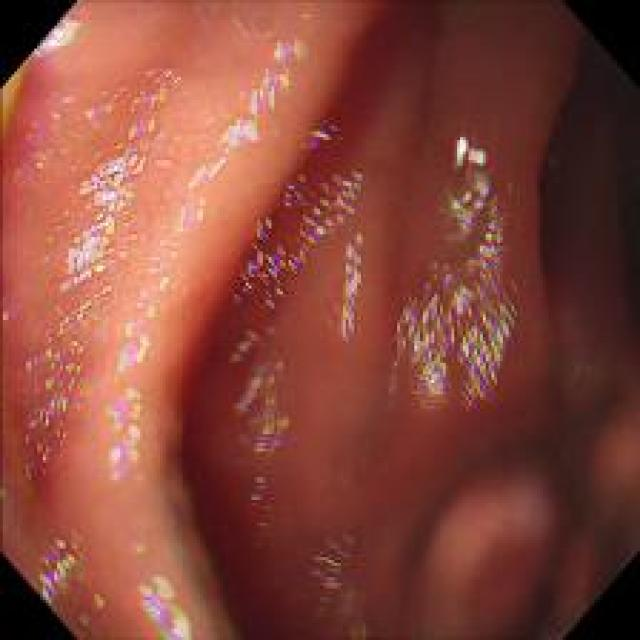blur: (156, 4, 635, 631)
color misalignment: (390, 212, 526, 409), (110, 239, 188, 488), (12, 284, 115, 469), (231, 170, 349, 305), (222, 312, 289, 544), (59, 139, 145, 284), (178, 119, 260, 236), (91, 56, 174, 151), (304, 526, 372, 635), (31, 531, 104, 630), (239, 30, 315, 114), (19, 91, 81, 192), (120, 558, 196, 636), (439, 134, 491, 235), (25, 2, 72, 69), (339, 225, 368, 331), (295, 114, 334, 152)
contrast: (530, 21, 632, 385)
